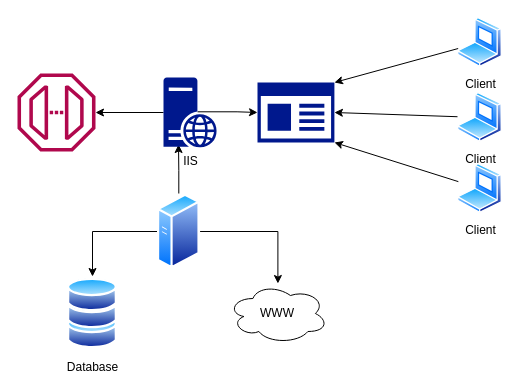
Image size: 519x391. Some labels were removed from this diagram. Each missing label, with the box of its shape:
Server: (157, 193, 200, 269)
Web api: (17, 73, 95, 151)
Web application: (257, 82, 334, 142)
